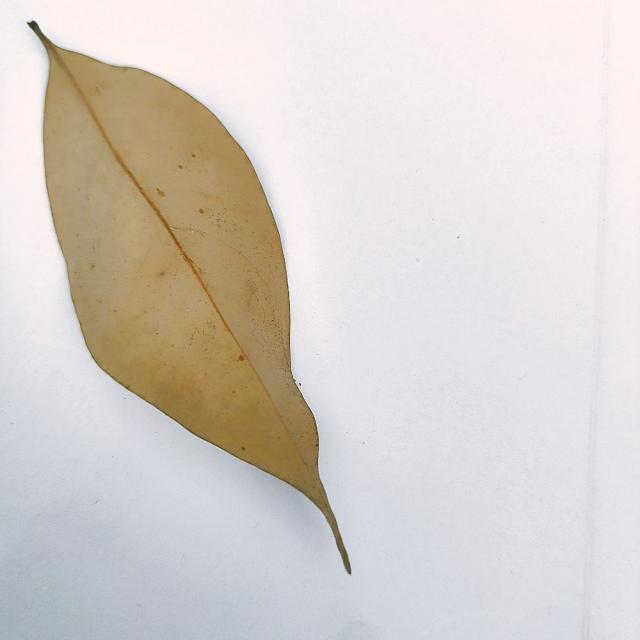Dry_Leaf-Lychee: (28, 22, 350, 574)
